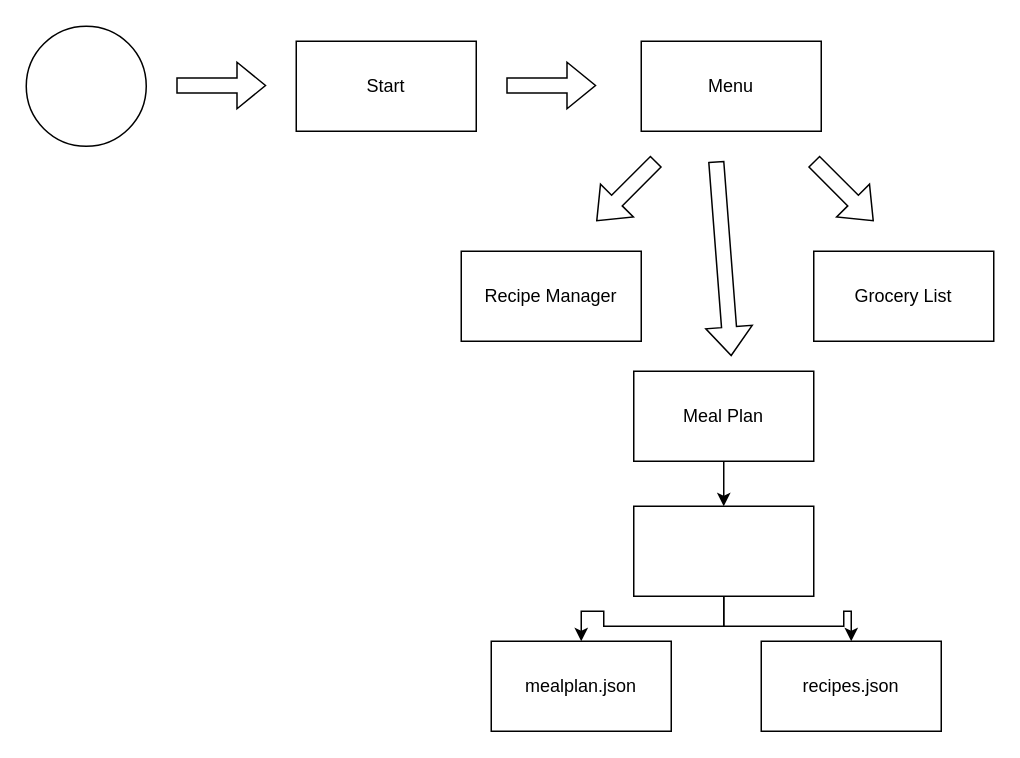
This 1020x758 diagram has some shape labels left out. The box of each missing label's shape, as (x1, y1, x2, y2) in pixels:
JSON Storage: (632, 505, 814, 596)
User: (25, 25, 146, 146)
